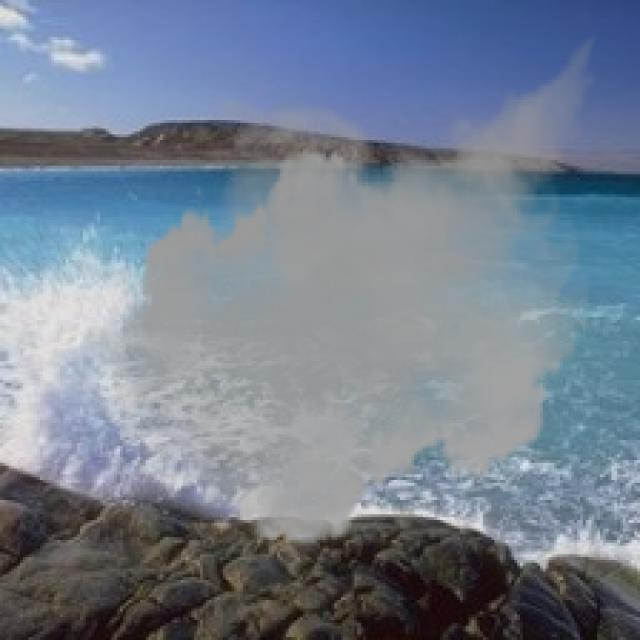smoke: (83, 9, 608, 560)
